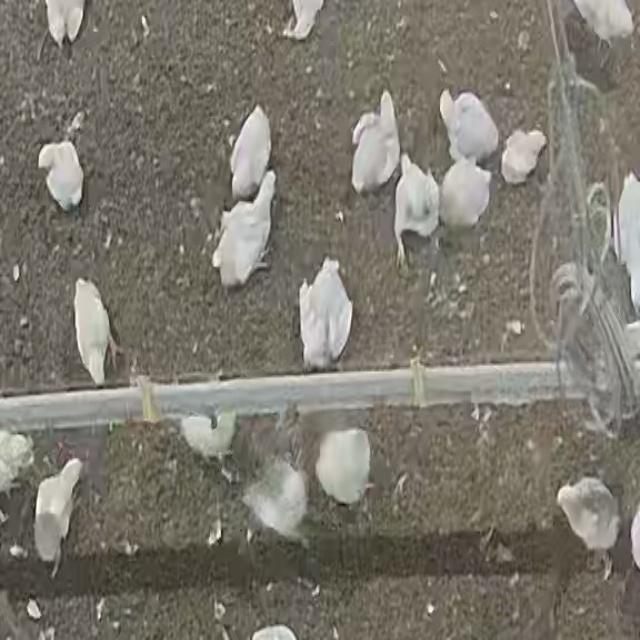chicken: (212, 172, 276, 289), (298, 257, 354, 371), (241, 457, 311, 544), (32, 457, 84, 571), (393, 154, 439, 270), (72, 277, 120, 387), (350, 90, 400, 195), (555, 476, 622, 554), (178, 377, 237, 462), (439, 88, 500, 166), (314, 428, 372, 507), (226, 102, 273, 197), (438, 154, 493, 234), (36, 139, 85, 214), (616, 171, 640, 306), (572, 0, 633, 47), (499, 128, 546, 186), (43, 1, 86, 46), (284, 0, 326, 39)
